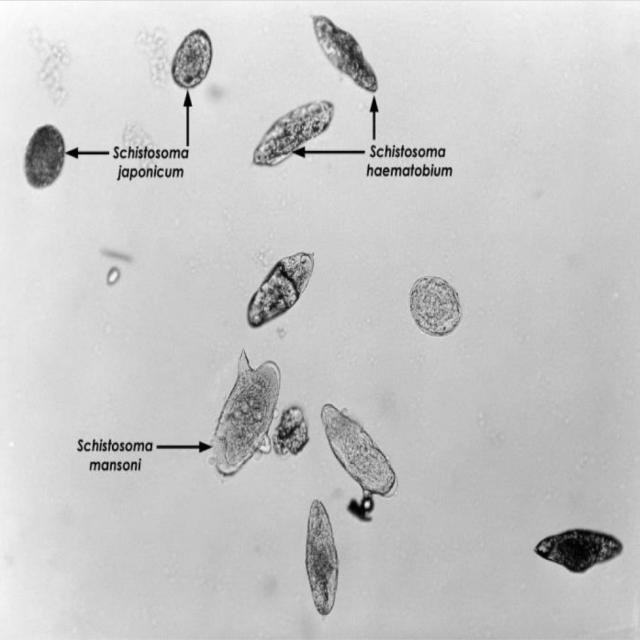Schistosoma: (203, 341, 286, 479), (315, 397, 405, 510), (242, 239, 327, 328), (246, 93, 340, 172), (310, 10, 384, 102), (298, 499, 346, 621), (168, 28, 214, 95)
